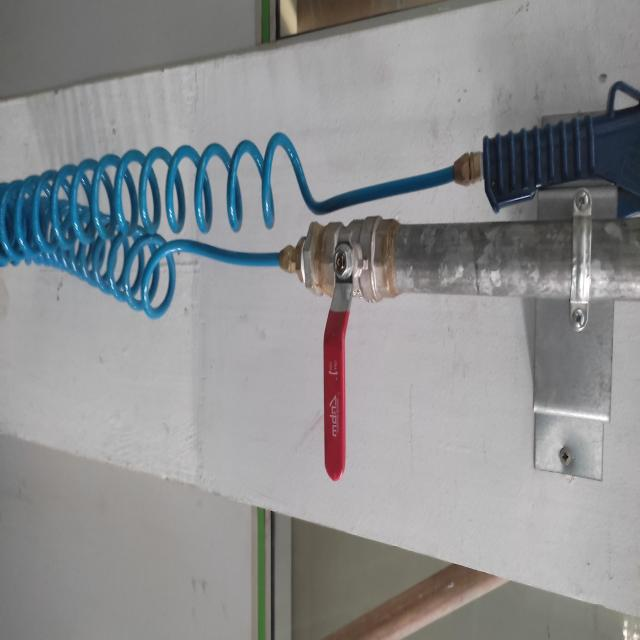closed_valve: (316, 214, 396, 485)
